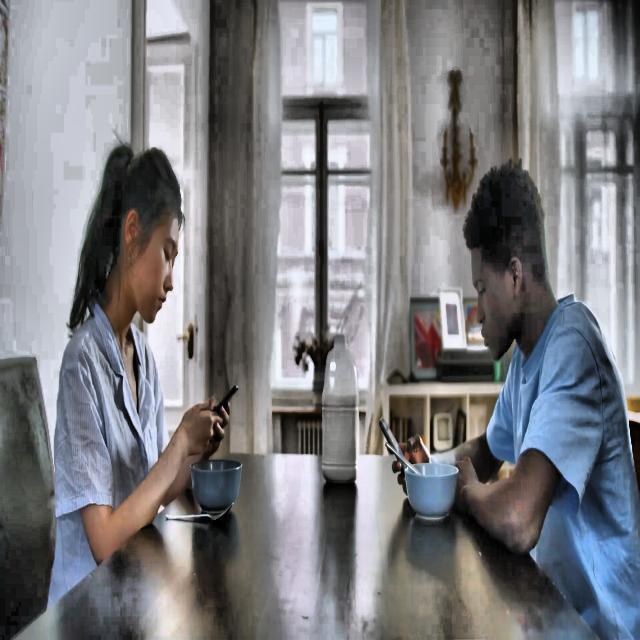Phone: (380, 415, 404, 463), (210, 383, 240, 419)
